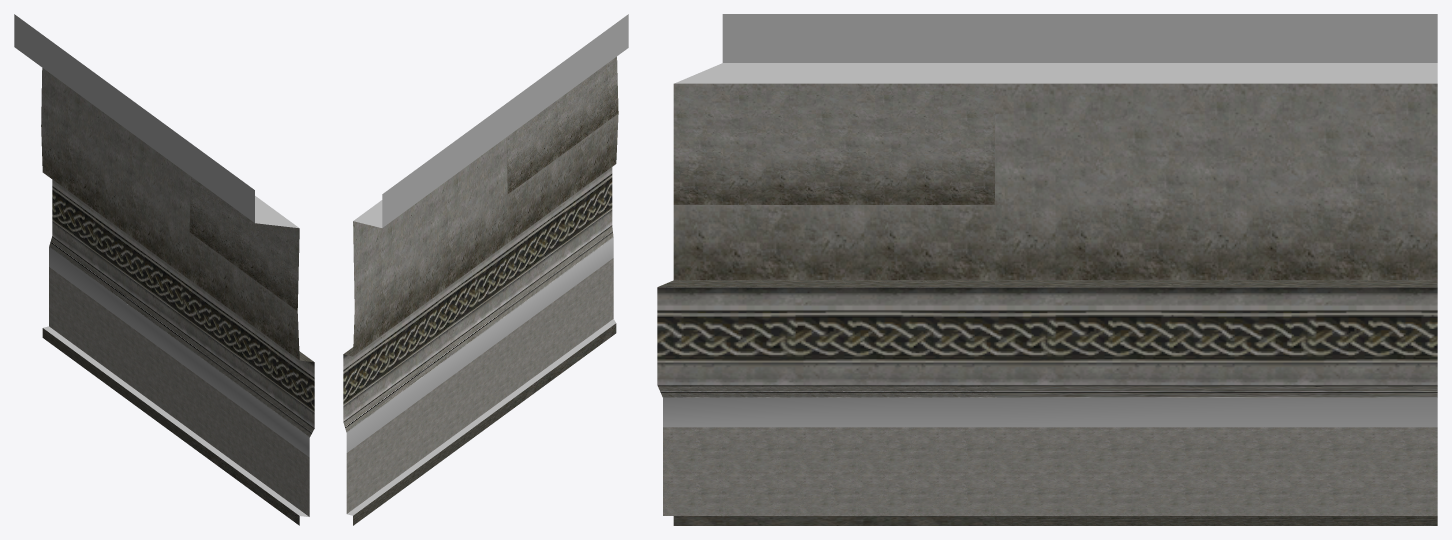
File: DWARF_PALACE_ARKSTONE_ROOM_BACKWALLB01.obj
3 renders of one model, left to right at view 1: azimuth 30°, elevation 25°; view 2: azimuth 150°, elevation 25°; view 3: azimuth 270°, elevation 25°, orthographic. The views are drawn at different scales.
Visible parts, largest first — view 1: oom_backwallB01; view 2: oom_backwallB01; view 3: oom_backwallB01.
Part boxes in pixels (bbox=[...]): oom_backwallB01: bbox=[14, 14, 314, 525]; oom_backwallB01: bbox=[343, 14, 628, 525]; oom_backwallB01: bbox=[657, 14, 1437, 525].
Size of the model in its own units: 120 by 1000 by 1439.
